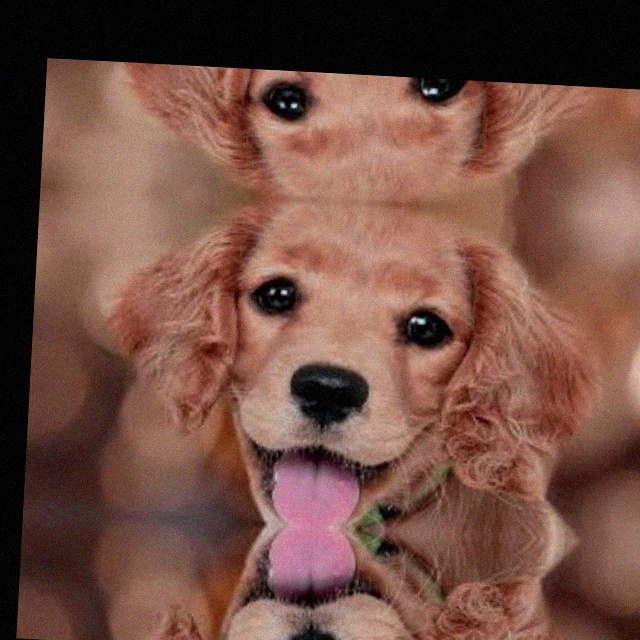dog: (122, 190, 597, 541), (139, 63, 604, 215), (115, 516, 579, 640)
